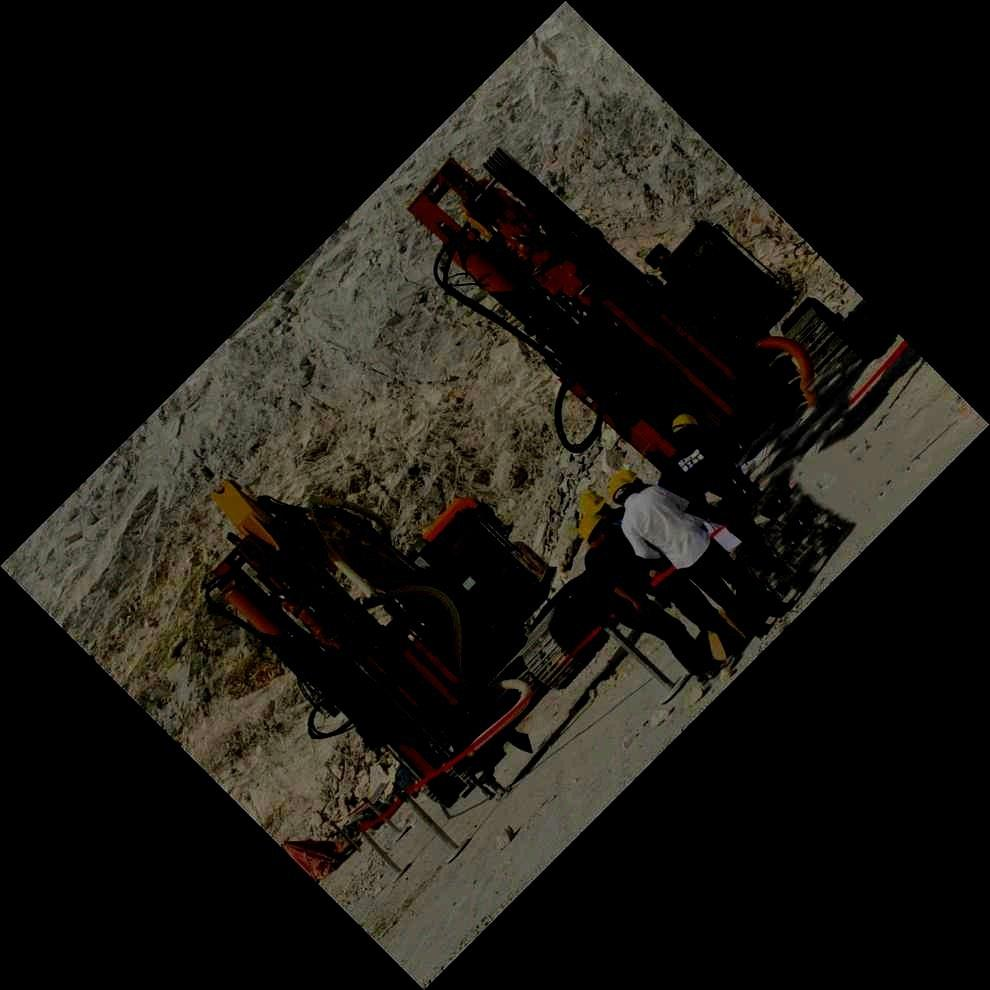helmet: (578, 513, 606, 546), (580, 492, 612, 519), (606, 478, 634, 505), (614, 470, 643, 495), (670, 413, 698, 434)
